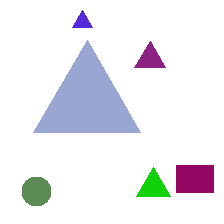circle: (22, 177, 50, 205)
rectangle: (176, 165, 213, 192)
triangle: (33, 40, 140, 132), (136, 167, 170, 196), (134, 41, 165, 67), (72, 10, 92, 27)
